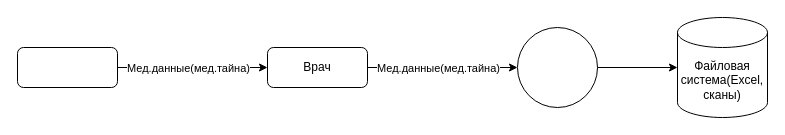
The diagram is 785 pixels wide and 135 high, and some of its shapes have lost their labels. Each missing label, with the centre of its shape:
Записать информацию в медкарту: [557,67]
Пациент: [67,67]
